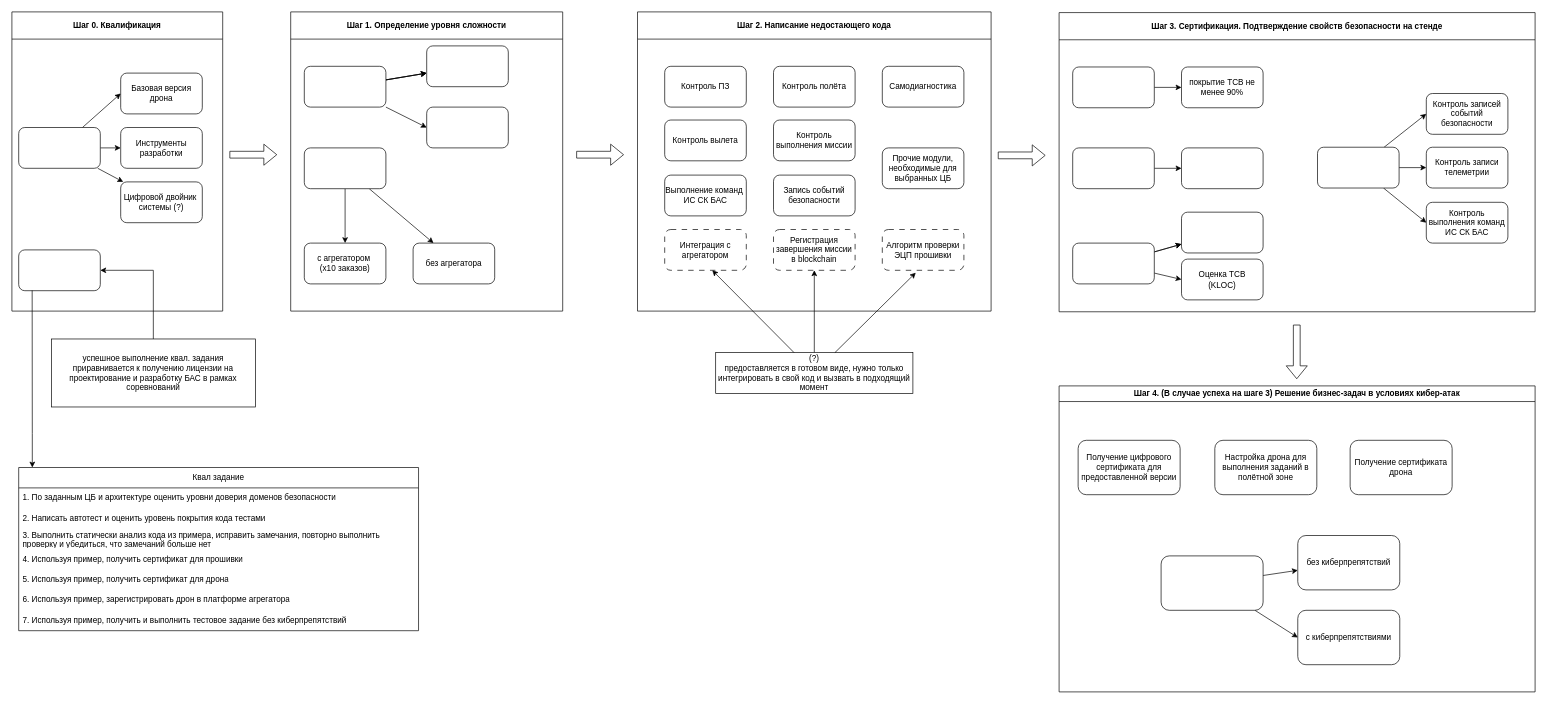
Image size: 1547x704. Some labels were removed from this diagram. Each missing label, with the centre of its shape:
1. Изучить учебные материалы, документацию, инфраструктуру: point (59, 147)
2. Выполнить квал.задание: point (59, 270)
Автотесты (должны быть предоставлены командой): point (1113, 87)
Архитектурные диаграммы: point (1222, 232)
Выполнение полётов: point (1211, 582)
Динамические тесты в цифровом двойнике (без агрегатора): point (1358, 167)
дополнительные ЦБ (+X заказов, в зависимости от ЦБ): point (467, 127)
Желаемая модель эксплуатации: point (345, 168)
Желаемые цели и свойства безопасности: point (345, 86)
отсутствие критических замечаний в TCB: point (1222, 168)
Проверка документации: point (1113, 263)
Статический анализ: point (1113, 168)
только базовые ЦБ: point (467, 66)
